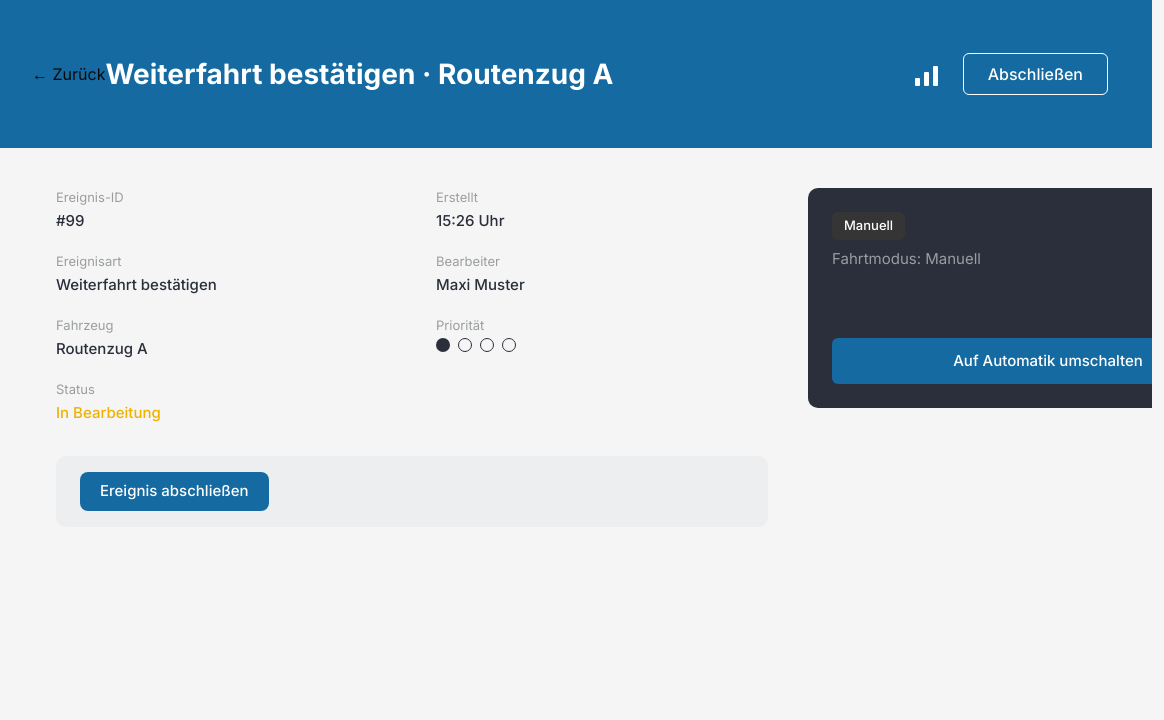
ER-02 — EreignisDetailPage — Status-Workflow: Abschluss bestätigen › 'Ja, abschließen' setzt Status auf 'Abgeschlossen'
Click the button "Ereignis abschließen": (174, 491) [80,472,268,510]
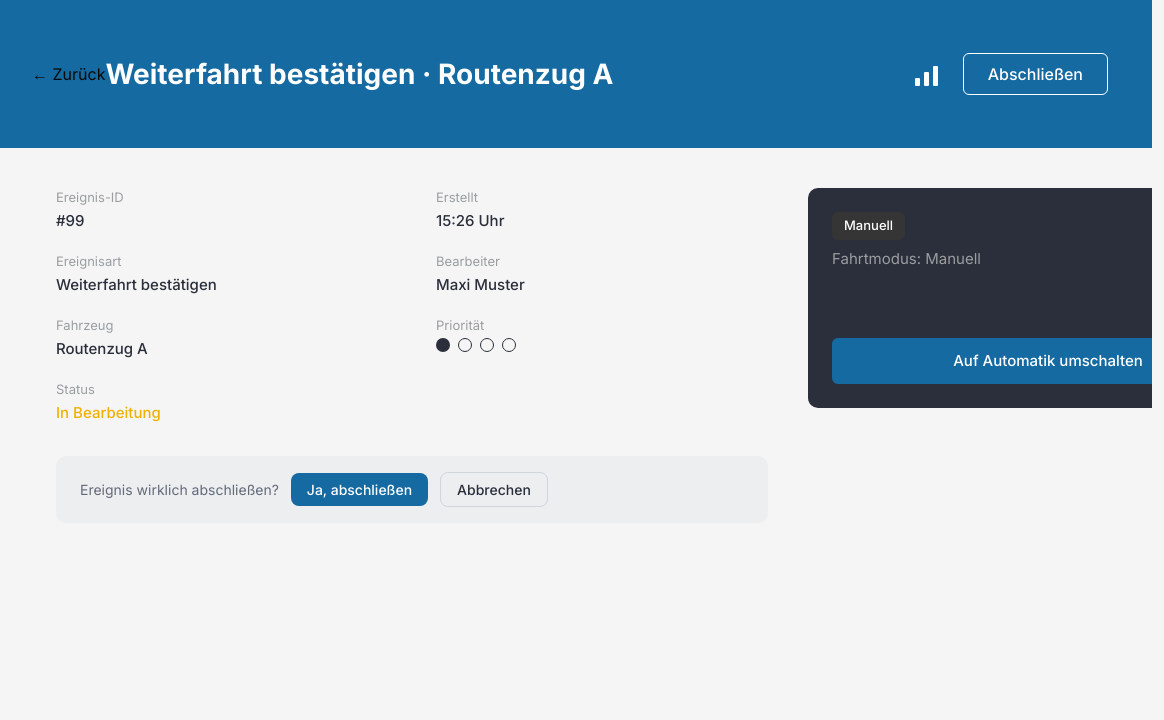
Click the button "Ja, abschließen": (360, 490) [291,473,428,506]
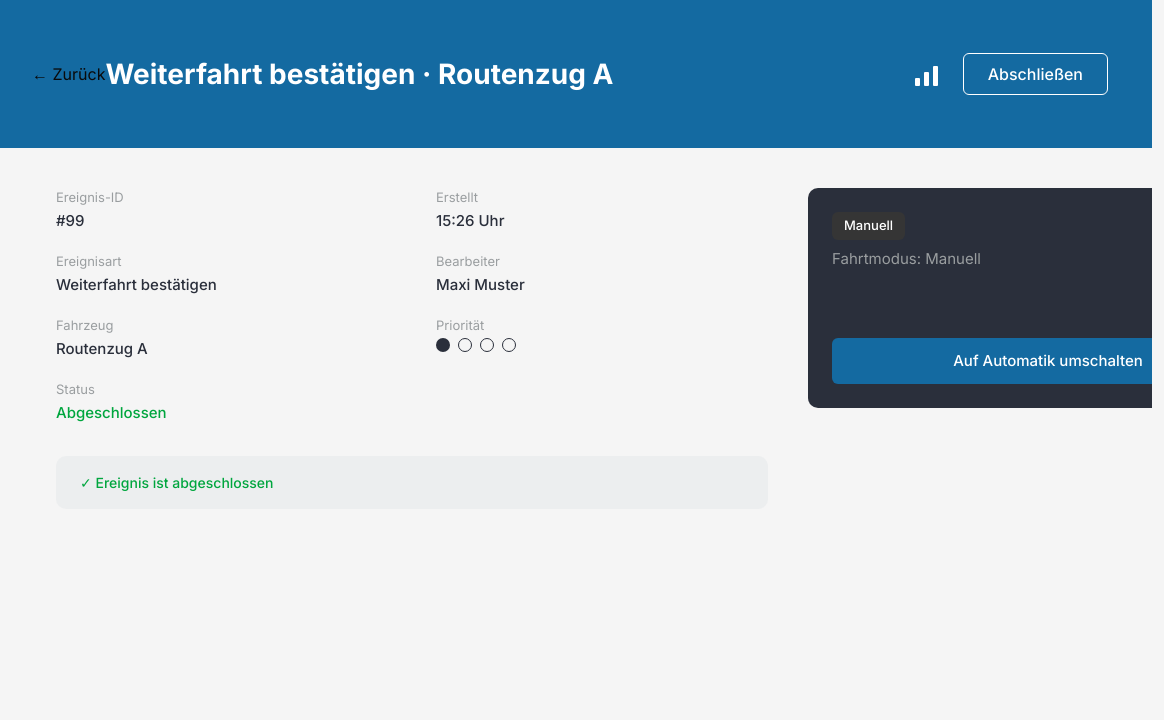
Now the text "Abgeschlossen" is shown, box [56,402,167,422]
